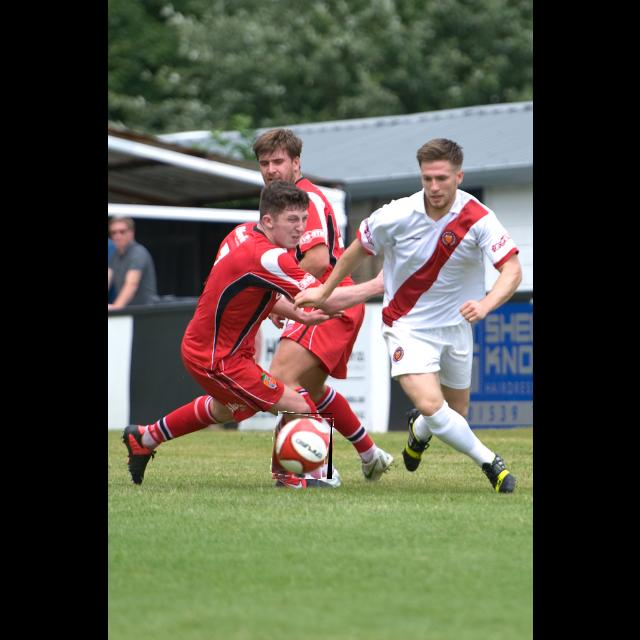Football: (272, 413, 332, 479)
